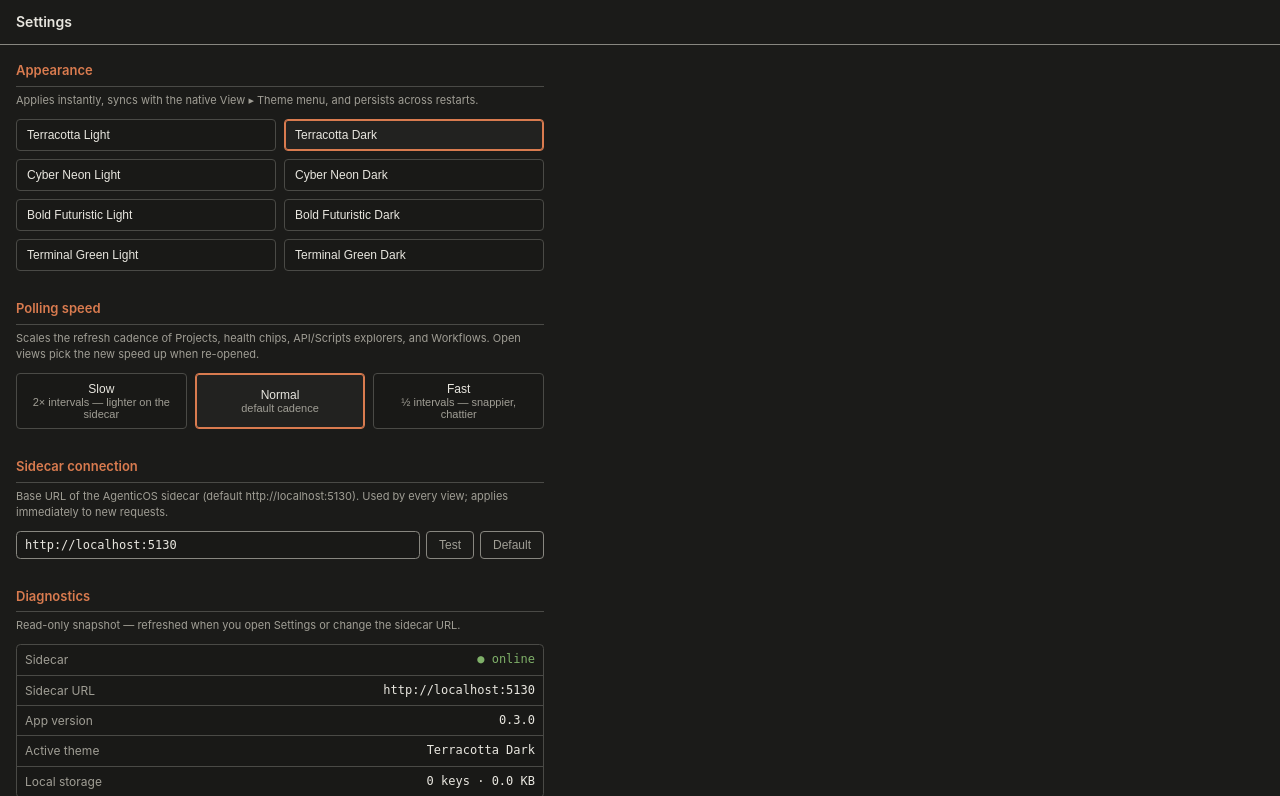
Test: EnvironmentPanel (Settings) › rejects an invalid URL with an error and does not persist it
Replace the text in the field with test id "sidecar-url-input" with "not-a-url" at x=218, y=544, box x1=16 y1=530 x2=420 y2=558
Then press Enter
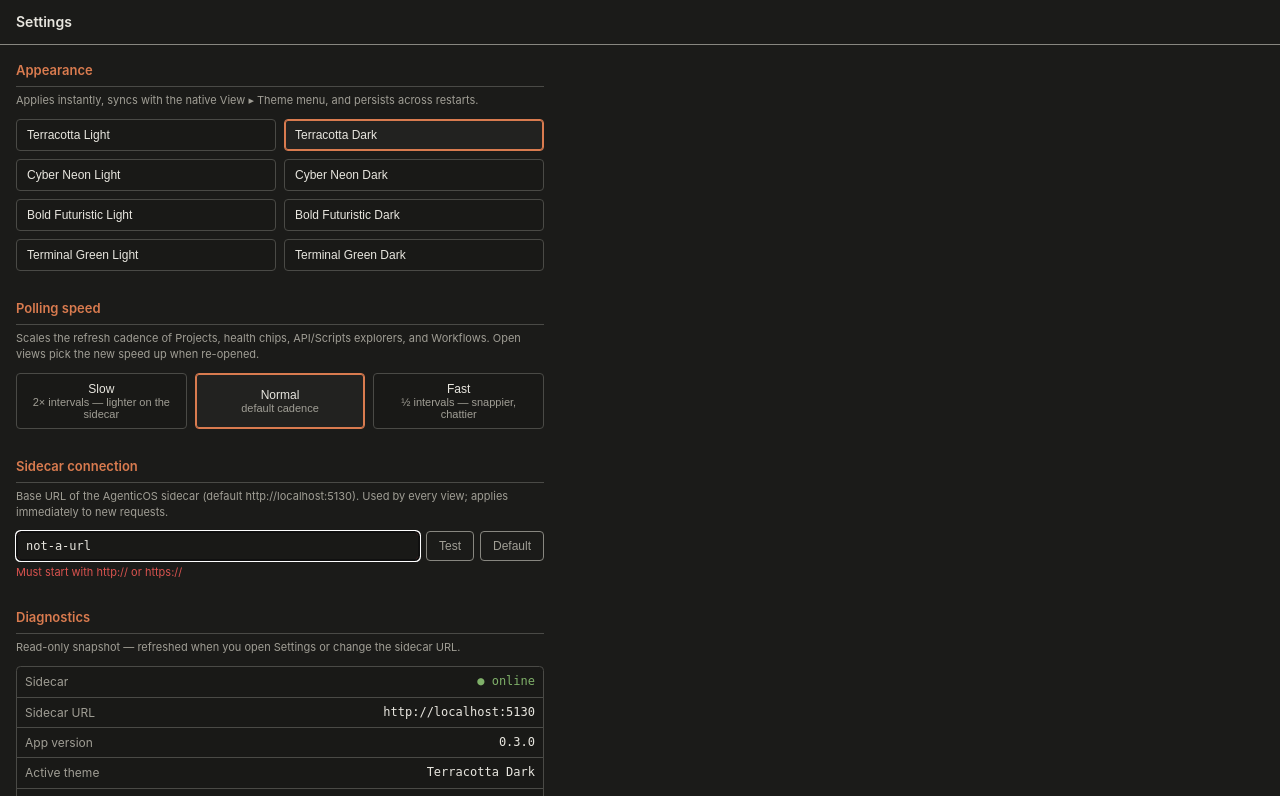
Expected: the text "http://localhost:5130" is shown, x1=383 y1=704 x2=535 y2=721
Result: the text "Must start with http:// or https://" is shown at x1=16 y1=564 x2=182 y2=578
